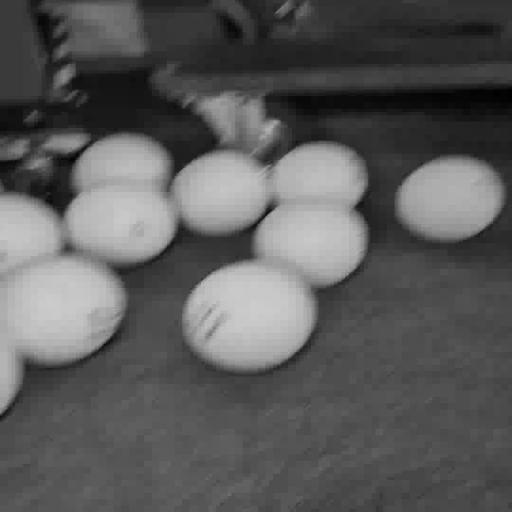fuel: (183, 259, 318, 373), (0, 252, 127, 365), (252, 203, 369, 287), (395, 156, 506, 242), (64, 184, 178, 266), (172, 150, 270, 235), (270, 142, 368, 207), (71, 133, 173, 192), (0, 192, 64, 277), (0, 340, 23, 415)
